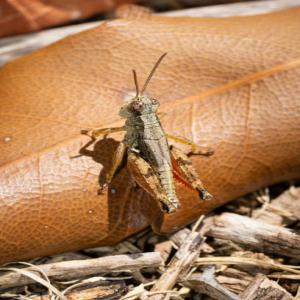locust: (84, 69, 243, 233)
